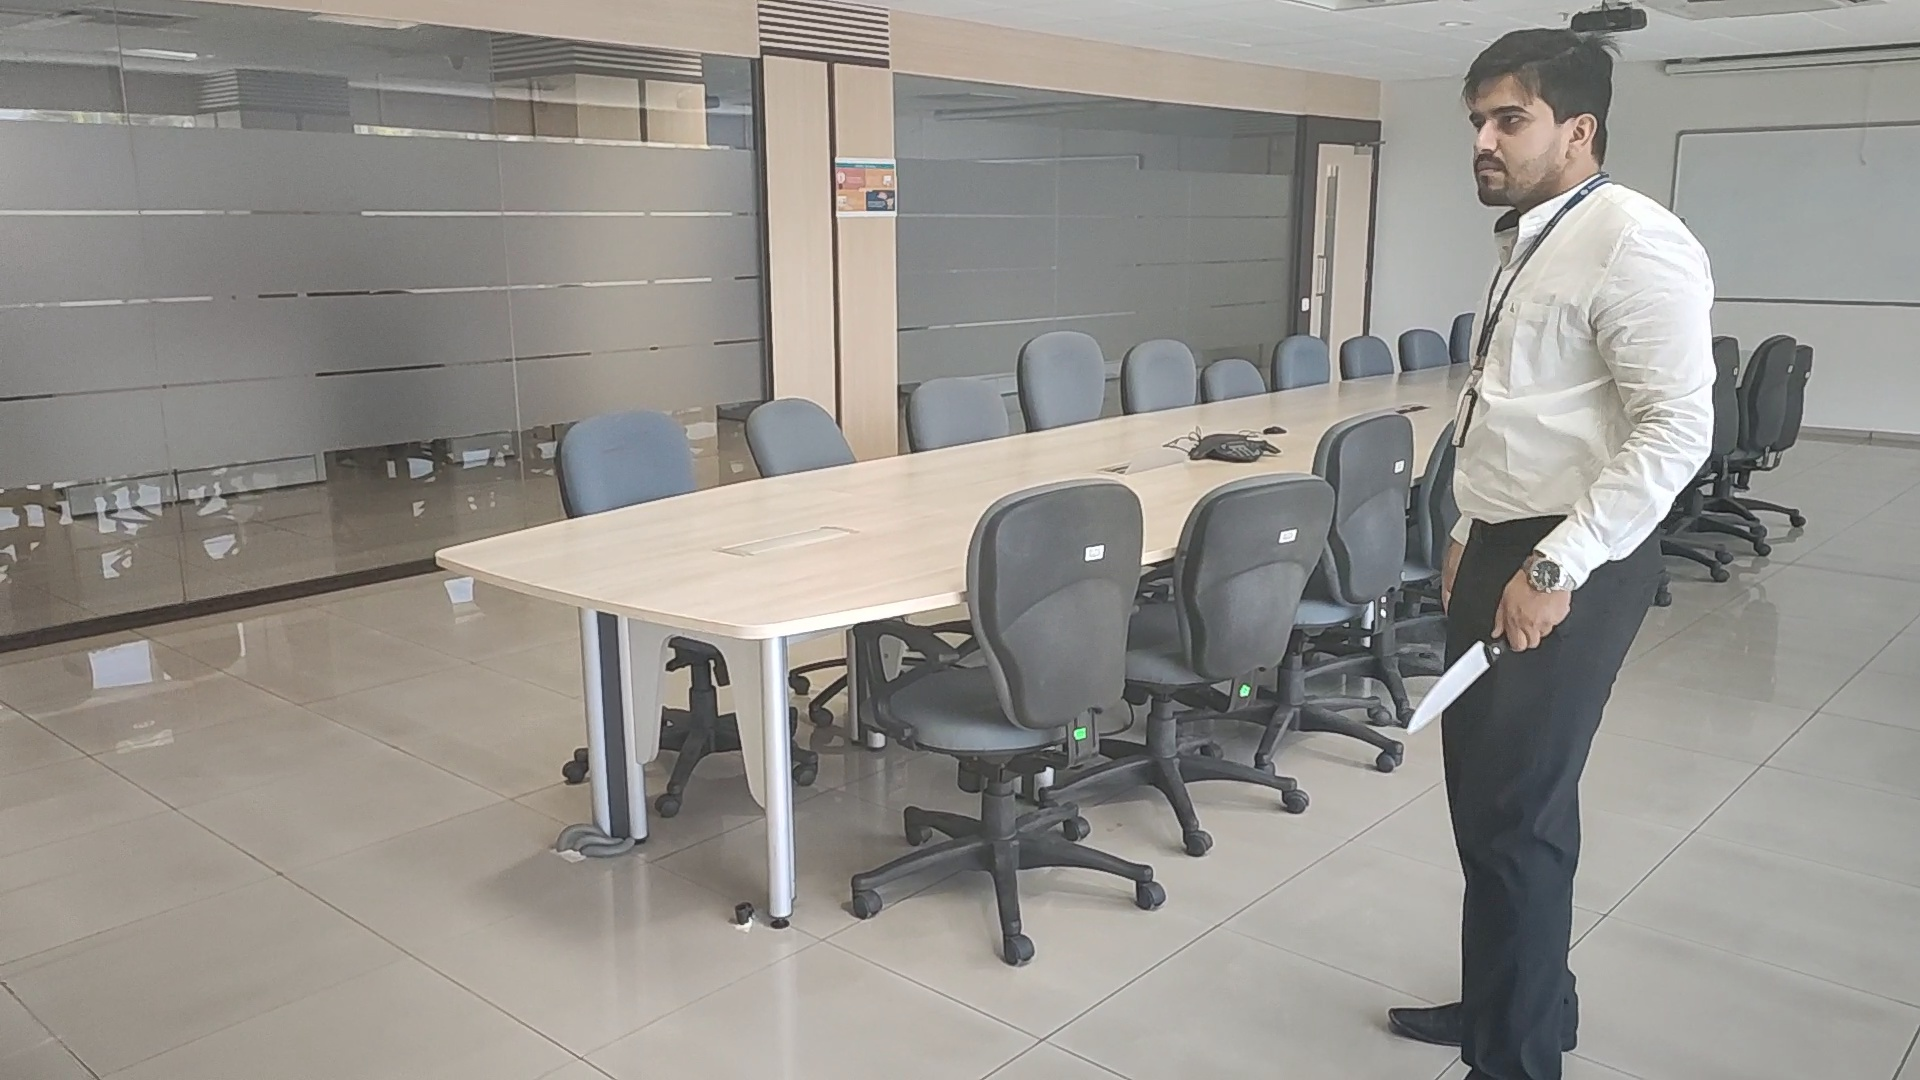knife: (1404, 640, 1498, 735)
